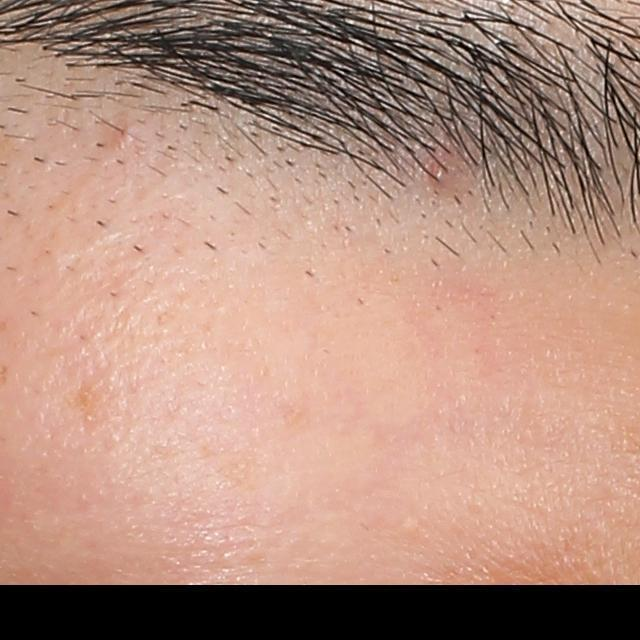papule: (428, 149, 459, 197)
